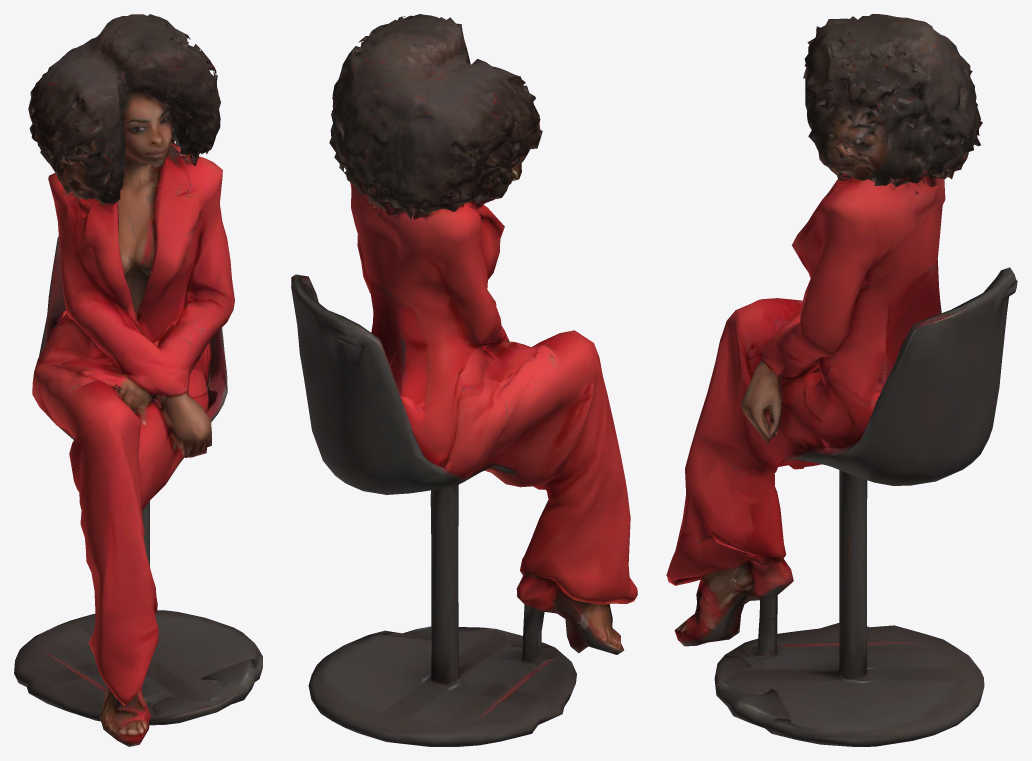
The model's file is patron_seated_female.glb.
The picture shows the model from 3 angles, left to right: view 1: azimuth 30°, elevation 25°; view 2: azimuth 150°, elevation 25°; view 3: azimuth 270°, elevation 25°; orthographic projection. The views are drawn at different scales.
Size of the model in its own units: 0.7218 by 1.99 by 0.9268.
Materials: 1 (1 with a texture image).
